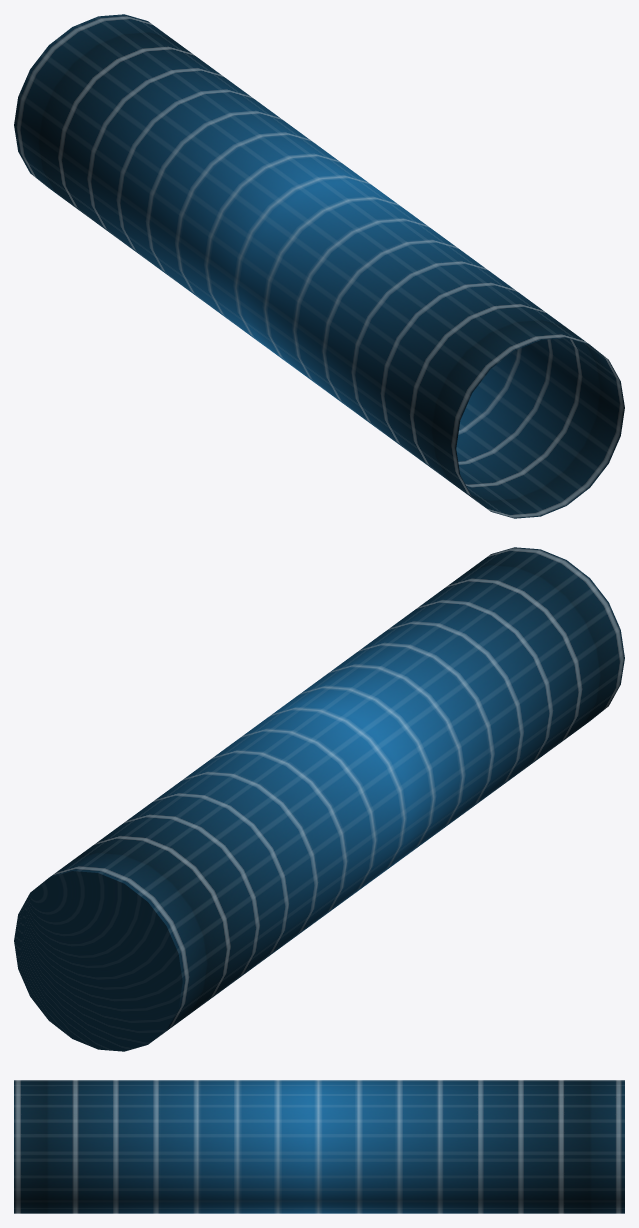
Rendered from wireframe.fbx.
The picture shows the model from 3 angles, top to bottom: view 1: azimuth 30°, elevation 25°; view 2: azimuth 150°, elevation 25°; view 3: azimuth 270°, elevation 25°; orthographic projection. The views are drawn at different scales.
Parts seen in each view (by area): view 1: wireframe_OBJ; view 2: wireframe_OBJ; view 3: wireframe_OBJ.
Part boxes in pixels (x1,y1,x2,y2): wireframe_OBJ: (14, 14, 624, 518); wireframe_OBJ: (14, 547, 624, 1051); wireframe_OBJ: (14, 1080, 624, 1213).
Bounding box in the file's own units: 15.28 × 15.28 × 69.37.
